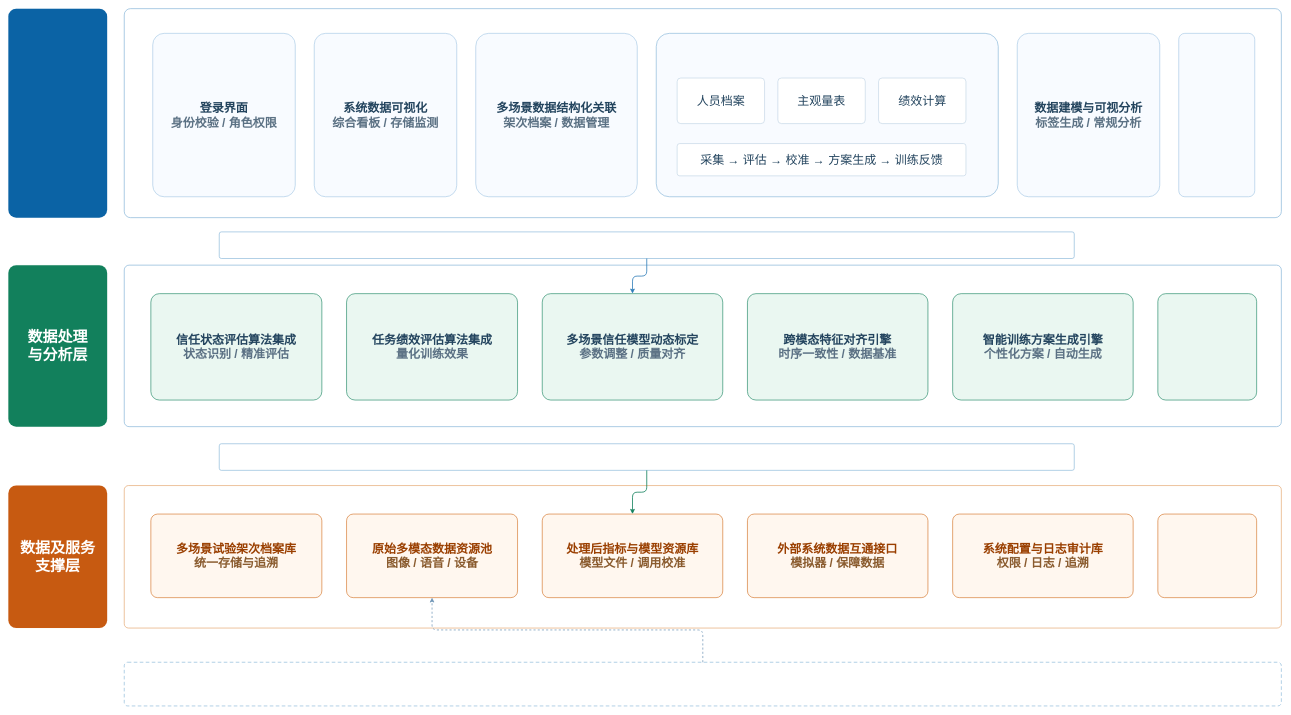
This 1291x715 diagram has some shape labels left out. The box of each missing label's shape, as (x1, y1, x2, y2) in pixels:
人机信任训练功能: (656, 33, 998, 197)
多源数据接入：模拟器飞行数据 / 人机交互操作数据 / 可穿戴设备数据 / 主观问卷数据 / 语音视频数据 / 环境与设备数据: (124, 662, 1281, 706)
多维度数据可视化渲染 图表 / 统计 / 趋势: (1157, 293, 1257, 400)
应用层: (8, 8, 107, 217)
权限与角色管理服务 功能与数据权限: (1157, 514, 1257, 598)
标准化 API 接口（RESTful / HTTPS）: (219, 231, 1074, 259)
标准化数据服务接口（API 网关）: (219, 443, 1074, 470)
系统管理 用户 / 日志 / 审计: (1178, 33, 1255, 197)
